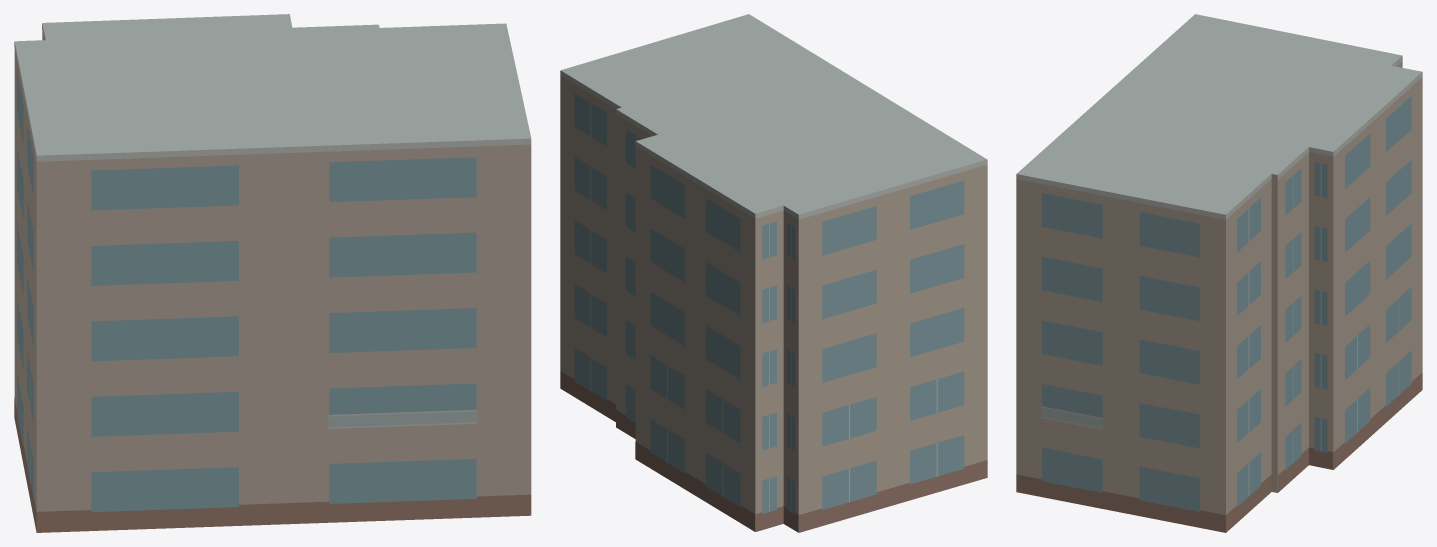
File: survey-upis-32991100.glb
3 views of the same model, side by side, from view 1: azimuth 30°, elevation 25°; view 2: azimuth 150°, elevation 25°; view 3: azimuth 270°, elevation 25° (orthographic). The views are drawn at different scales.
Visible parts, largest first — view 1: survey-upis-32991100.tmp; view 2: survey-upis-32991100.tmp; view 3: survey-upis-32991100.tmp.
Part boxes in pixels (bbox=[...]): survey-upis-32991100.tmp: bbox=[14, 14, 531, 532]; survey-upis-32991100.tmp: bbox=[560, 14, 987, 532]; survey-upis-32991100.tmp: bbox=[1016, 14, 1422, 532].
Bounding box in the file's own units: 20.79 × 15.35 × 17.77.
